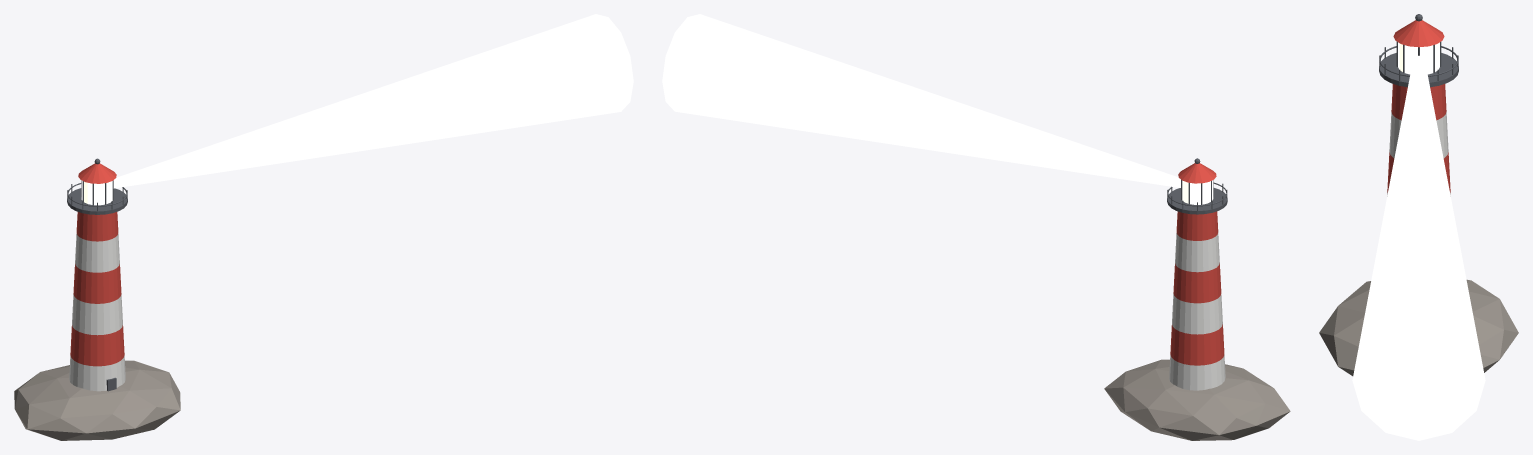
The model's file is lighthouse.glb.
3 renders of one model, left to right at view 1: azimuth 30°, elevation 25°; view 2: azimuth 150°, elevation 25°; view 3: azimuth 270°, elevation 25°, orthographic. The views are drawn at different scales.
Parts seen in each view (by area): view 1: StrahlKegel, Fels, Cone.001, Cone.002, Cone.003, Cone.004, Cone, Cone.005, Cylinder, Lampe; view 2: StrahlKegel, Fels, Cone.001, Cone.002, Cone.003, Cone, Cone.004, Cone.005, Cylinder, Lampe; view 3: StrahlKegel, Fels, Cylinder, Cone.006, Cone.005, Lampe, Cone.004, Cone.003, Torus.
Part boxes in pixels (bbox=[...]): StrahlKegel: bbox=[113, 14, 633, 188]; Fels: bbox=[14, 360, 180, 440]; Cone.001: bbox=[70, 325, 124, 366]; Cone.002: bbox=[72, 294, 122, 335]; Cone.003: bbox=[73, 264, 121, 303]; Cone.004: bbox=[75, 234, 119, 272]; Cone: bbox=[69, 355, 125, 391]; Cone.005: bbox=[76, 212, 118, 241]; Cylinder: bbox=[67, 188, 127, 214]; Lampe: bbox=[81, 180, 112, 205]; StrahlKegel: bbox=[662, 14, 1180, 187]; Fels: bbox=[1104, 359, 1290, 440]; Cone.001: bbox=[1170, 324, 1224, 365]; Cone.002: bbox=[1172, 293, 1222, 334]; Cone.003: bbox=[1173, 263, 1221, 303]; Cone: bbox=[1169, 355, 1225, 390]; Cone.004: bbox=[1175, 233, 1219, 272]; Cone.005: bbox=[1176, 211, 1218, 240]; Cylinder: bbox=[1167, 188, 1227, 214]; Lampe: bbox=[1182, 180, 1213, 204]; StrahlKegel: bbox=[1352, 55, 1485, 440]; Fels: bbox=[1319, 279, 1518, 376]; Cylinder: bbox=[1379, 53, 1458, 87]; Cone.006: bbox=[1393, 20, 1444, 47]; Cone.005: bbox=[1391, 84, 1446, 120]; Lampe: bbox=[1398, 42, 1439, 74]; Cone.004: bbox=[1389, 112, 1448, 157]; Cone.003: bbox=[1387, 152, 1450, 192]; Torus: bbox=[1379, 46, 1458, 76].
Size of the model in its own units: 81.21 by 35.9 by 18.
